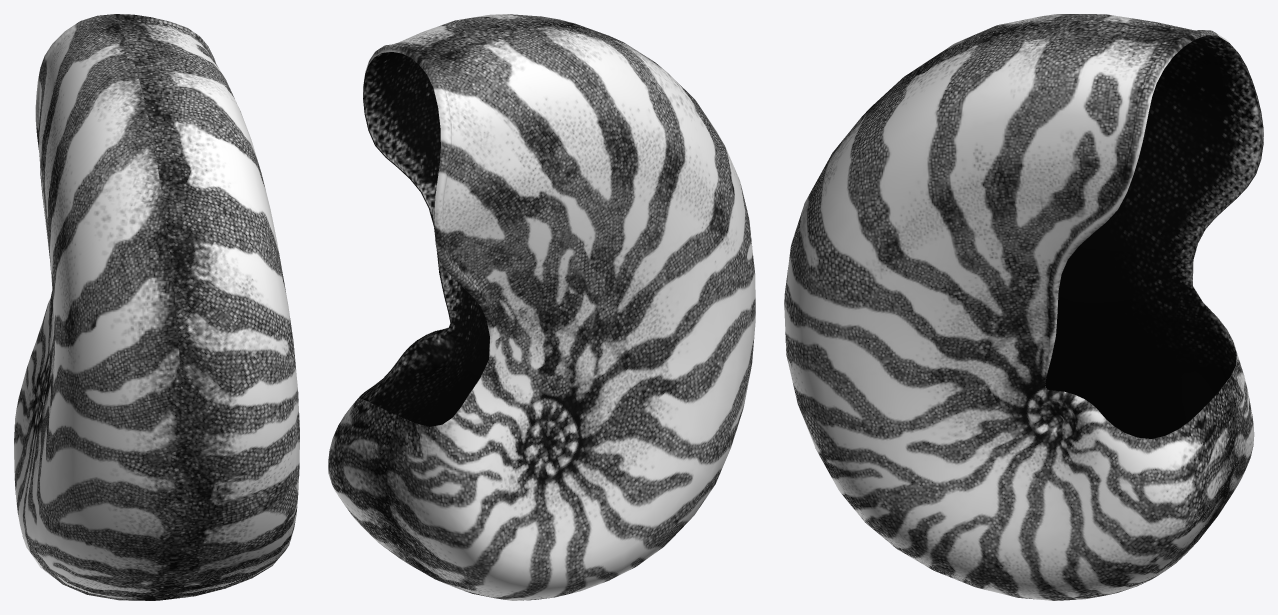
The model's file is LinearSpin.fbx.
3 renders of one model, left to right at view 1: azimuth 30°, elevation 25°; view 2: azimuth 150°, elevation 25°; view 3: azimuth 270°, elevation 25°, orthographic. The views are drawn at different scales.
Visible parts, largest first — view 1: KominJeong_Shell02_LinearSpin; view 2: KominJeong_Shell02_LinearSpin; view 3: KominJeong_Shell02_LinearSpin.
Part boxes in pixels (x1=…): KominJeong_Shell02_LinearSpin: x1=14, y1=14, x2=299, y2=600; KominJeong_Shell02_LinearSpin: x1=328, y1=14, x2=755, y2=600; KominJeong_Shell02_LinearSpin: x1=784, y1=14, x2=1263, y2=600.
Size of the model in its own units: 12.29 by 22.27 by 17.43.
1 material, 1 textured.
